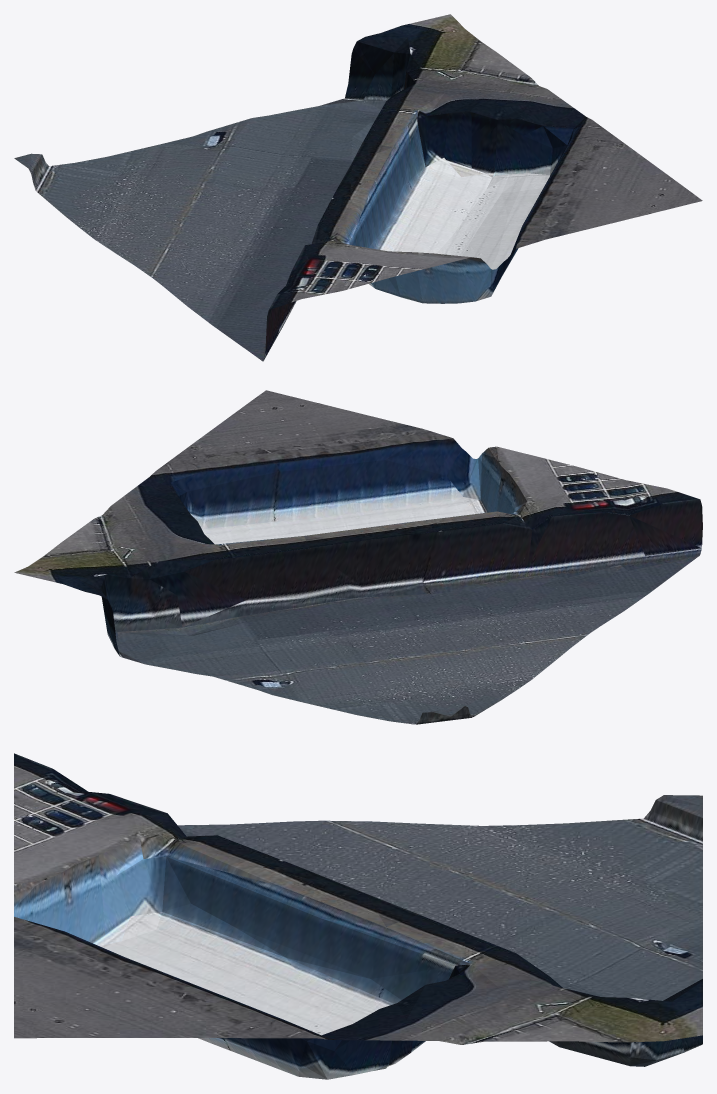
Rendered from map_15_8186_13783.dae.
3 renders of one model, top to bottom at view 1: azimuth 30°, elevation 25°; view 2: azimuth 150°, elevation 25°; view 3: azimuth 270°, elevation 25°, orthographic. The views are drawn at different scales.
Parts seen in each view (by area): view 1: Ter0; view 2: Ter0; view 3: Ter0.
Part boxes in pixels (<box>): Ter0: <box>14,14,702,361</box>; Ter0: <box>14,390,702,724</box>; Ter0: <box>14,753,702,1079</box>.
Size of the model in its own units: 63.88 by 63.88 by 9.49.
Materials: 6 (6 with a texture image).
